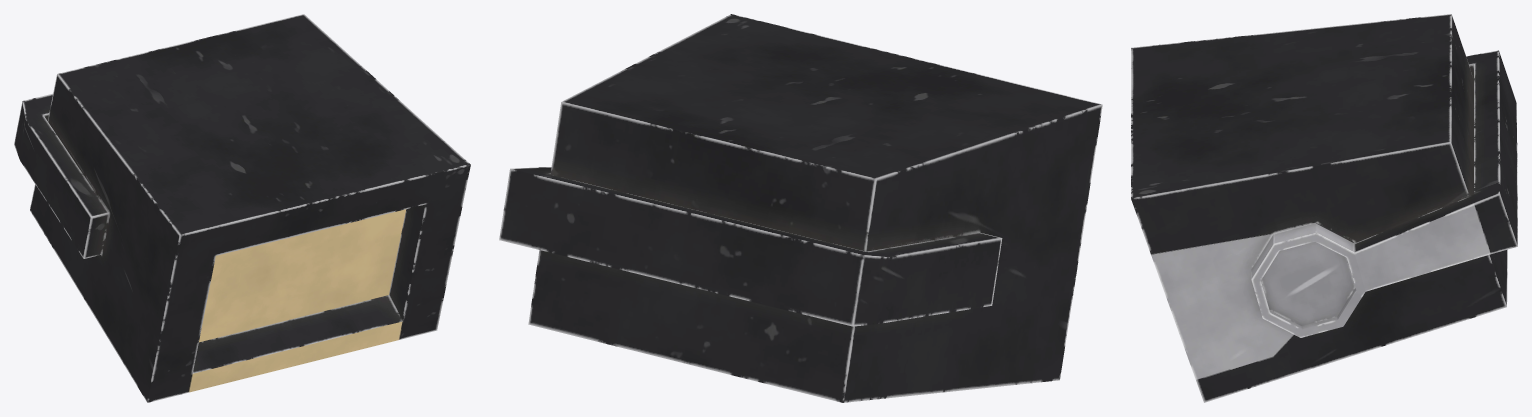
The picture shows the model from 3 angles, left to right: view 1: azimuth 30°, elevation 25°; view 2: azimuth 150°, elevation 25°; view 3: azimuth 270°, elevation 25°; orthographic projection. The views are drawn at different scales.
Visible parts, largest first — view 1: Spotlight_Game; view 2: Spotlight_Game; view 3: Spotlight_Game.
Part boxes in pixels (x1,y1,x2,y2): Spotlight_Game: (14, 14, 470, 402); Spotlight_Game: (499, 14, 1102, 402); Spotlight_Game: (1131, 14, 1517, 402).
Bounding box in the file's own units: 0.397 × 0.288 × 0.4.
1 material, 1 textured.
